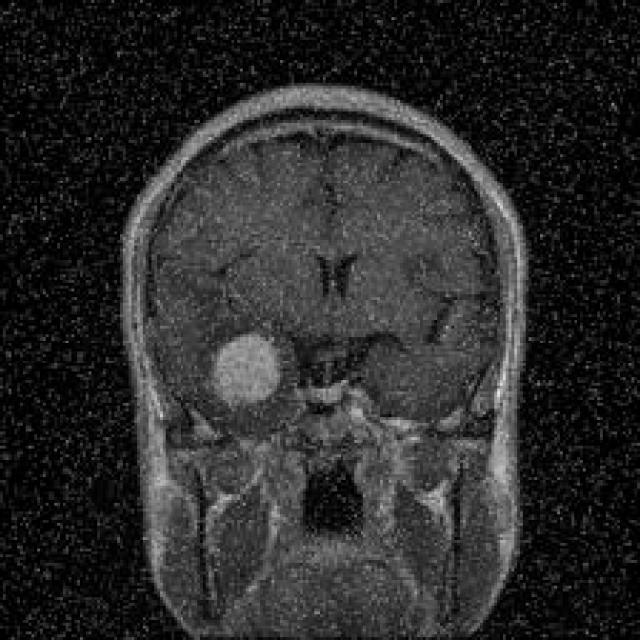meningioma_tumor: (196, 316, 294, 425)
